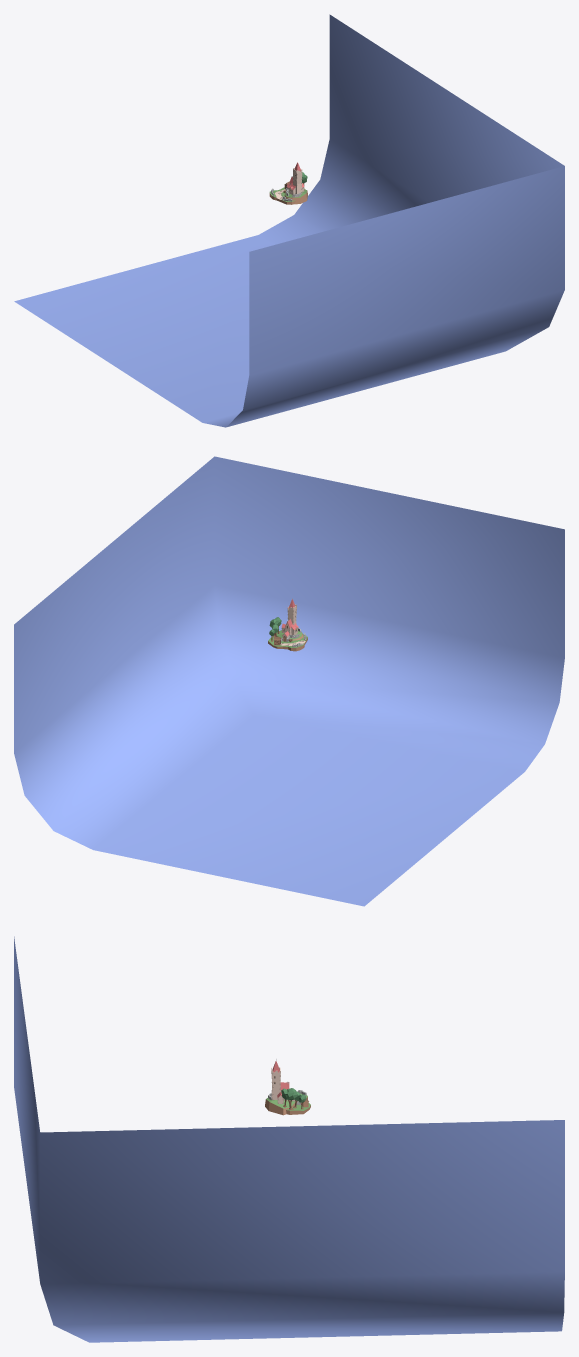
3 renders of one model, top to bottom at view 1: azimuth 30°, elevation 25°; view 2: azimuth 150°, elevation 25°; view 3: azimuth 270°, elevation 25°, orthographic. The views are drawn at different scales.
Visible parts, largest first — view 1: Background; view 2: Background; view 3: Background.
Boxes of the visible parts, x1,y1,x2,y2 form: Background: (14, 14, 564, 427); Background: (14, 456, 564, 906); Background: (14, 936, 564, 1342).
Size of the model in its own units: 4705 by 2618 by 5272.
